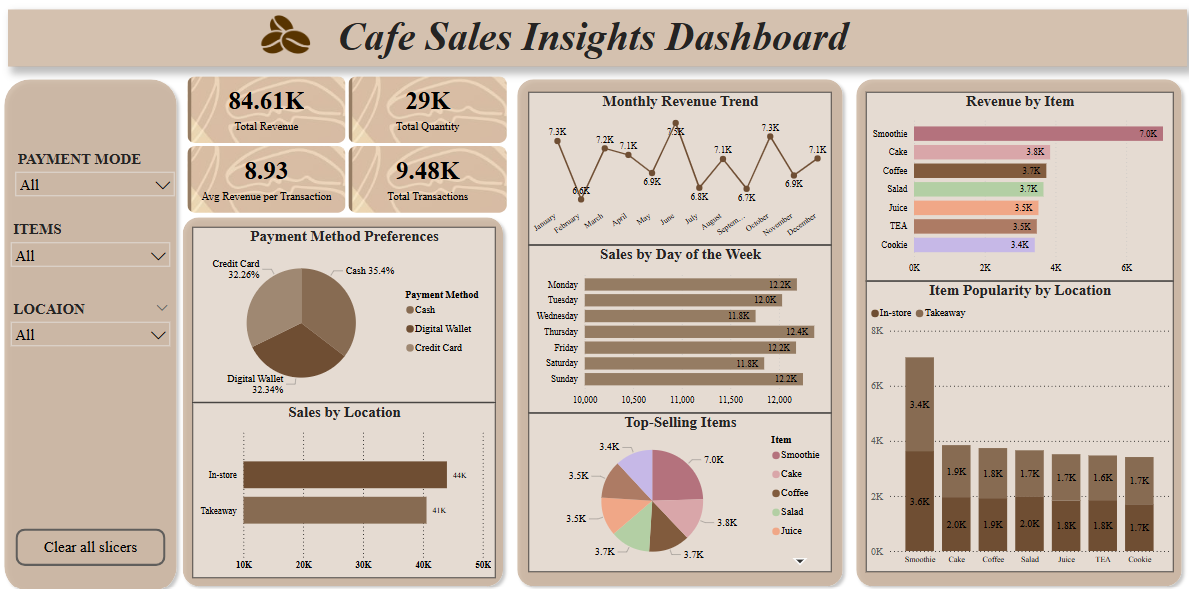

What the dashboard file says about the page in this screenshot:
{"tool":"powerbi","page":{"name":"Page 1","canvas":[1600,800],"ordinal":0},"visuals":[{"type":"shape","box":[2,98,248,702],"z":0},{"type":"textbox","box":[16,14,1572,76],"z":1000},{"type":"slicer","fields":{"Values":["clean_cafe_sales.Payment Method"]},"box":[16,196,232,86],"z":2000},{"type":"cardVisual","fields":{"Data":["clean_cafe_sales.Total Revenue","clean_cafe_sales.Total Quantity","clean_cafe_sales.Avg Revenue per Transaction","clean_cafe_sales.Total Transactions"]},"box":[250,98,436,192],"z":3000},{"type":"shape","box":[240,282.5,445,510],"z":4000},{"type":"clusteredBarChart","title":"Sales by Location","fields":{"Category":["clean_cafe_sales.Location"],"Y":["clean_cafe_sales.Total Revenue"]},"box":[262,538,404,234],"z":5000},{"type":"pieChart","title":" Payment Method Preferences","fields":{"Y":["CountNonNull(clean_cafe_sales.Transaction ID)"],"Category":["clean_cafe_sales.Payment Method"]},"box":[262,304,404,234],"z":6000},{"type":"shape","box":[686,98,452,694],"z":7000},{"type":"lineChart","title":"Monthly Revenue Trend","fields":{"Category":["clean_cafe_sales.Transaction Month"],"Y":["clean_cafe_sales.Total Revenue"]},"box":[710,124,404,204],"z":8000},{"type":"clusteredBarChart","title":"Sales by Day of the Week","fields":{"Y":["clean_cafe_sales.Total Revenue"],"Category":["clean_cafe_sales.Day of the Week"]},"box":[710,328,404,224],"z":9000},{"type":"actionButton","box":[26,706,200,50],"z":10000},{"type":"image","box":[310,14,152,66],"z":11000},{"type":"shape","box":[1138,98,452,694],"z":12000},{"type":"slicer","fields":{"Values":["clean_cafe_sales.Item"]},"box":[10,290,232,86],"z":13000},{"type":"slicer","fields":{"Values":["clean_cafe_sales.Location"]},"box":[10,396,232,86],"z":14000},{"type":"columnChart","title":"Item Popularity by Location","fields":{"Category":["clean_cafe_sales.Item"],"Y":["clean_cafe_sales.Total Quantity"],"Series":["clean_cafe_sales.Location"]},"box":[1160,376,410,388],"z":15000},{"type":"pieChart","title":"Top-Selling Items","fields":{"Y":["clean_cafe_sales.Total Quantity"],"Category":["clean_cafe_sales.Item"]},"box":[710,552,404,212],"z":16000},{"type":"clusteredBarChart","title":"Revenue by Item","fields":{"Category":["clean_cafe_sales.Item"],"Y":["clean_cafe_sales.Total Quantity"]},"box":[1160,124,410,252],"z":17000}]}

Visuals, with their boxes in screenshot pixels (x1, y1, x2, y2), scaled from the page's 1600x800 canvas onto the 1189x589 screenshot:
shape: bbox=(1, 72, 186, 588)
textbox: bbox=(12, 10, 1180, 66)
slicer - clean_cafe_sales.Payment Method: bbox=(12, 144, 184, 208)
cardVisual - clean_cafe_sales.Total Revenue x clean_cafe_sales.Total Quantity: bbox=(186, 72, 510, 214)
shape: bbox=(178, 208, 509, 583)
"Sales by Location" clusteredBarChart: bbox=(195, 396, 495, 568)
" Payment Method Preferences" pieChart: bbox=(195, 224, 495, 396)
shape: bbox=(510, 72, 846, 583)
"Monthly Revenue Trend" lineChart: bbox=(528, 91, 828, 241)
"Sales by Day of the Week" clusteredBarChart: bbox=(528, 241, 828, 406)
actionButton: bbox=(19, 520, 168, 557)
image: bbox=(230, 10, 343, 59)
shape: bbox=(846, 72, 1182, 583)
slicer - clean_cafe_sales.Item: bbox=(7, 214, 180, 277)
slicer - clean_cafe_sales.Location: bbox=(7, 292, 180, 355)
"Item Popularity by Location" columnChart: bbox=(862, 277, 1167, 562)
"Top-Selling Items" pieChart: bbox=(528, 406, 828, 562)
"Revenue by Item" clusteredBarChart: bbox=(862, 91, 1167, 277)
